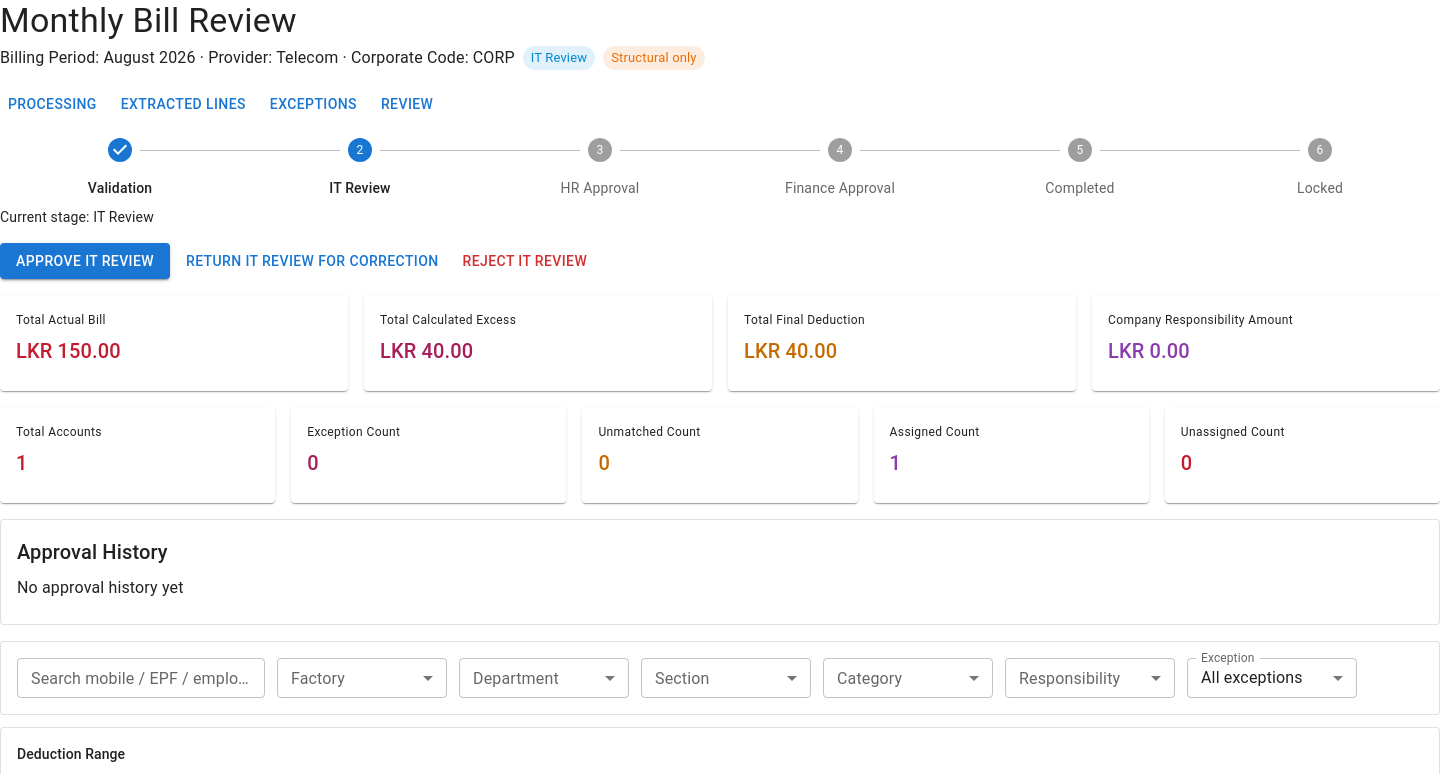
Test case: MonthlyBillReviewPage workflow and reporting › Return IT Review for Correction requires a meaningful reason before sending
Click the button "Return IT Review for Correction". click: (312, 261)
box: [178,242,447,279]
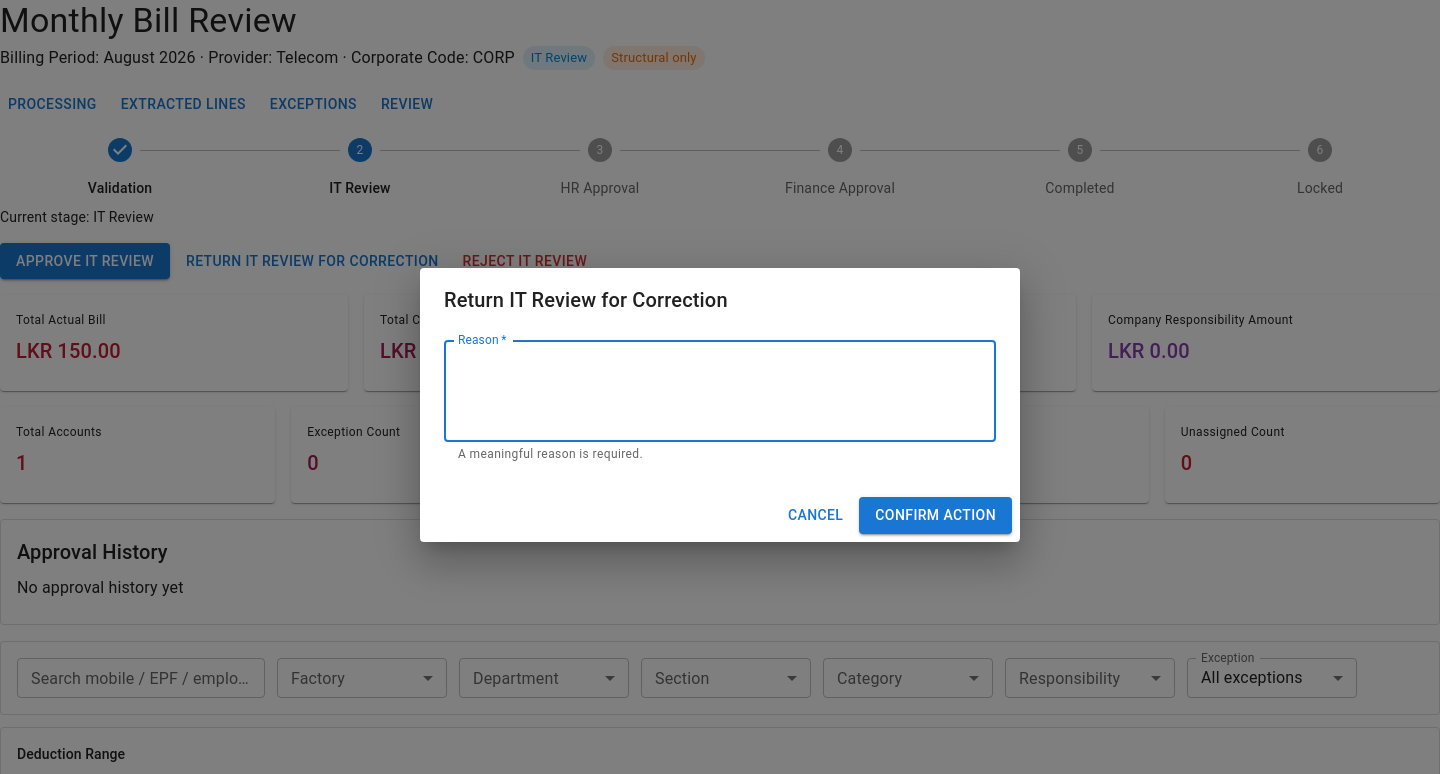
Click the button "Confirm Action". click: (936, 515)
box: [859,497,1012,534]
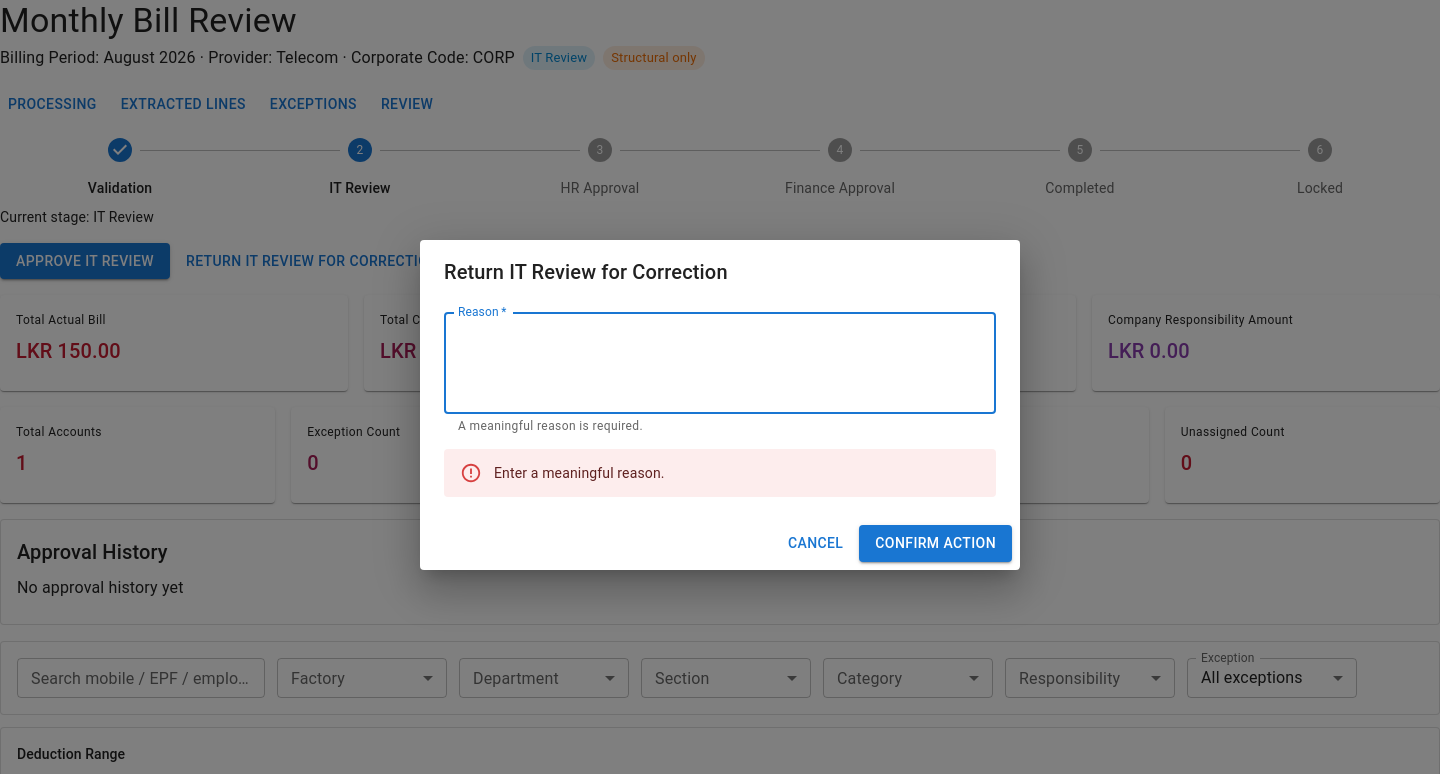
Expected: the text "Enter a meaningful reason." is shown, [494,465,665,481]
